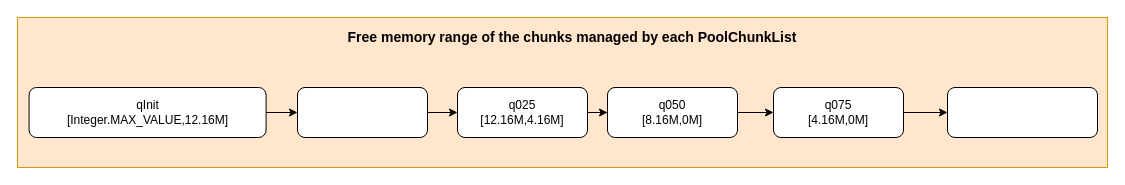
The diagram is 1125 pixels wide and 185 high, and some of its shapes have lost their labels. The centre of each missing label's shape, as x and y in pixels:
q000 [16M,8.16M]: point 362,112
q100 [0M,Integer.MIN_VALUE]: point 1022,112
